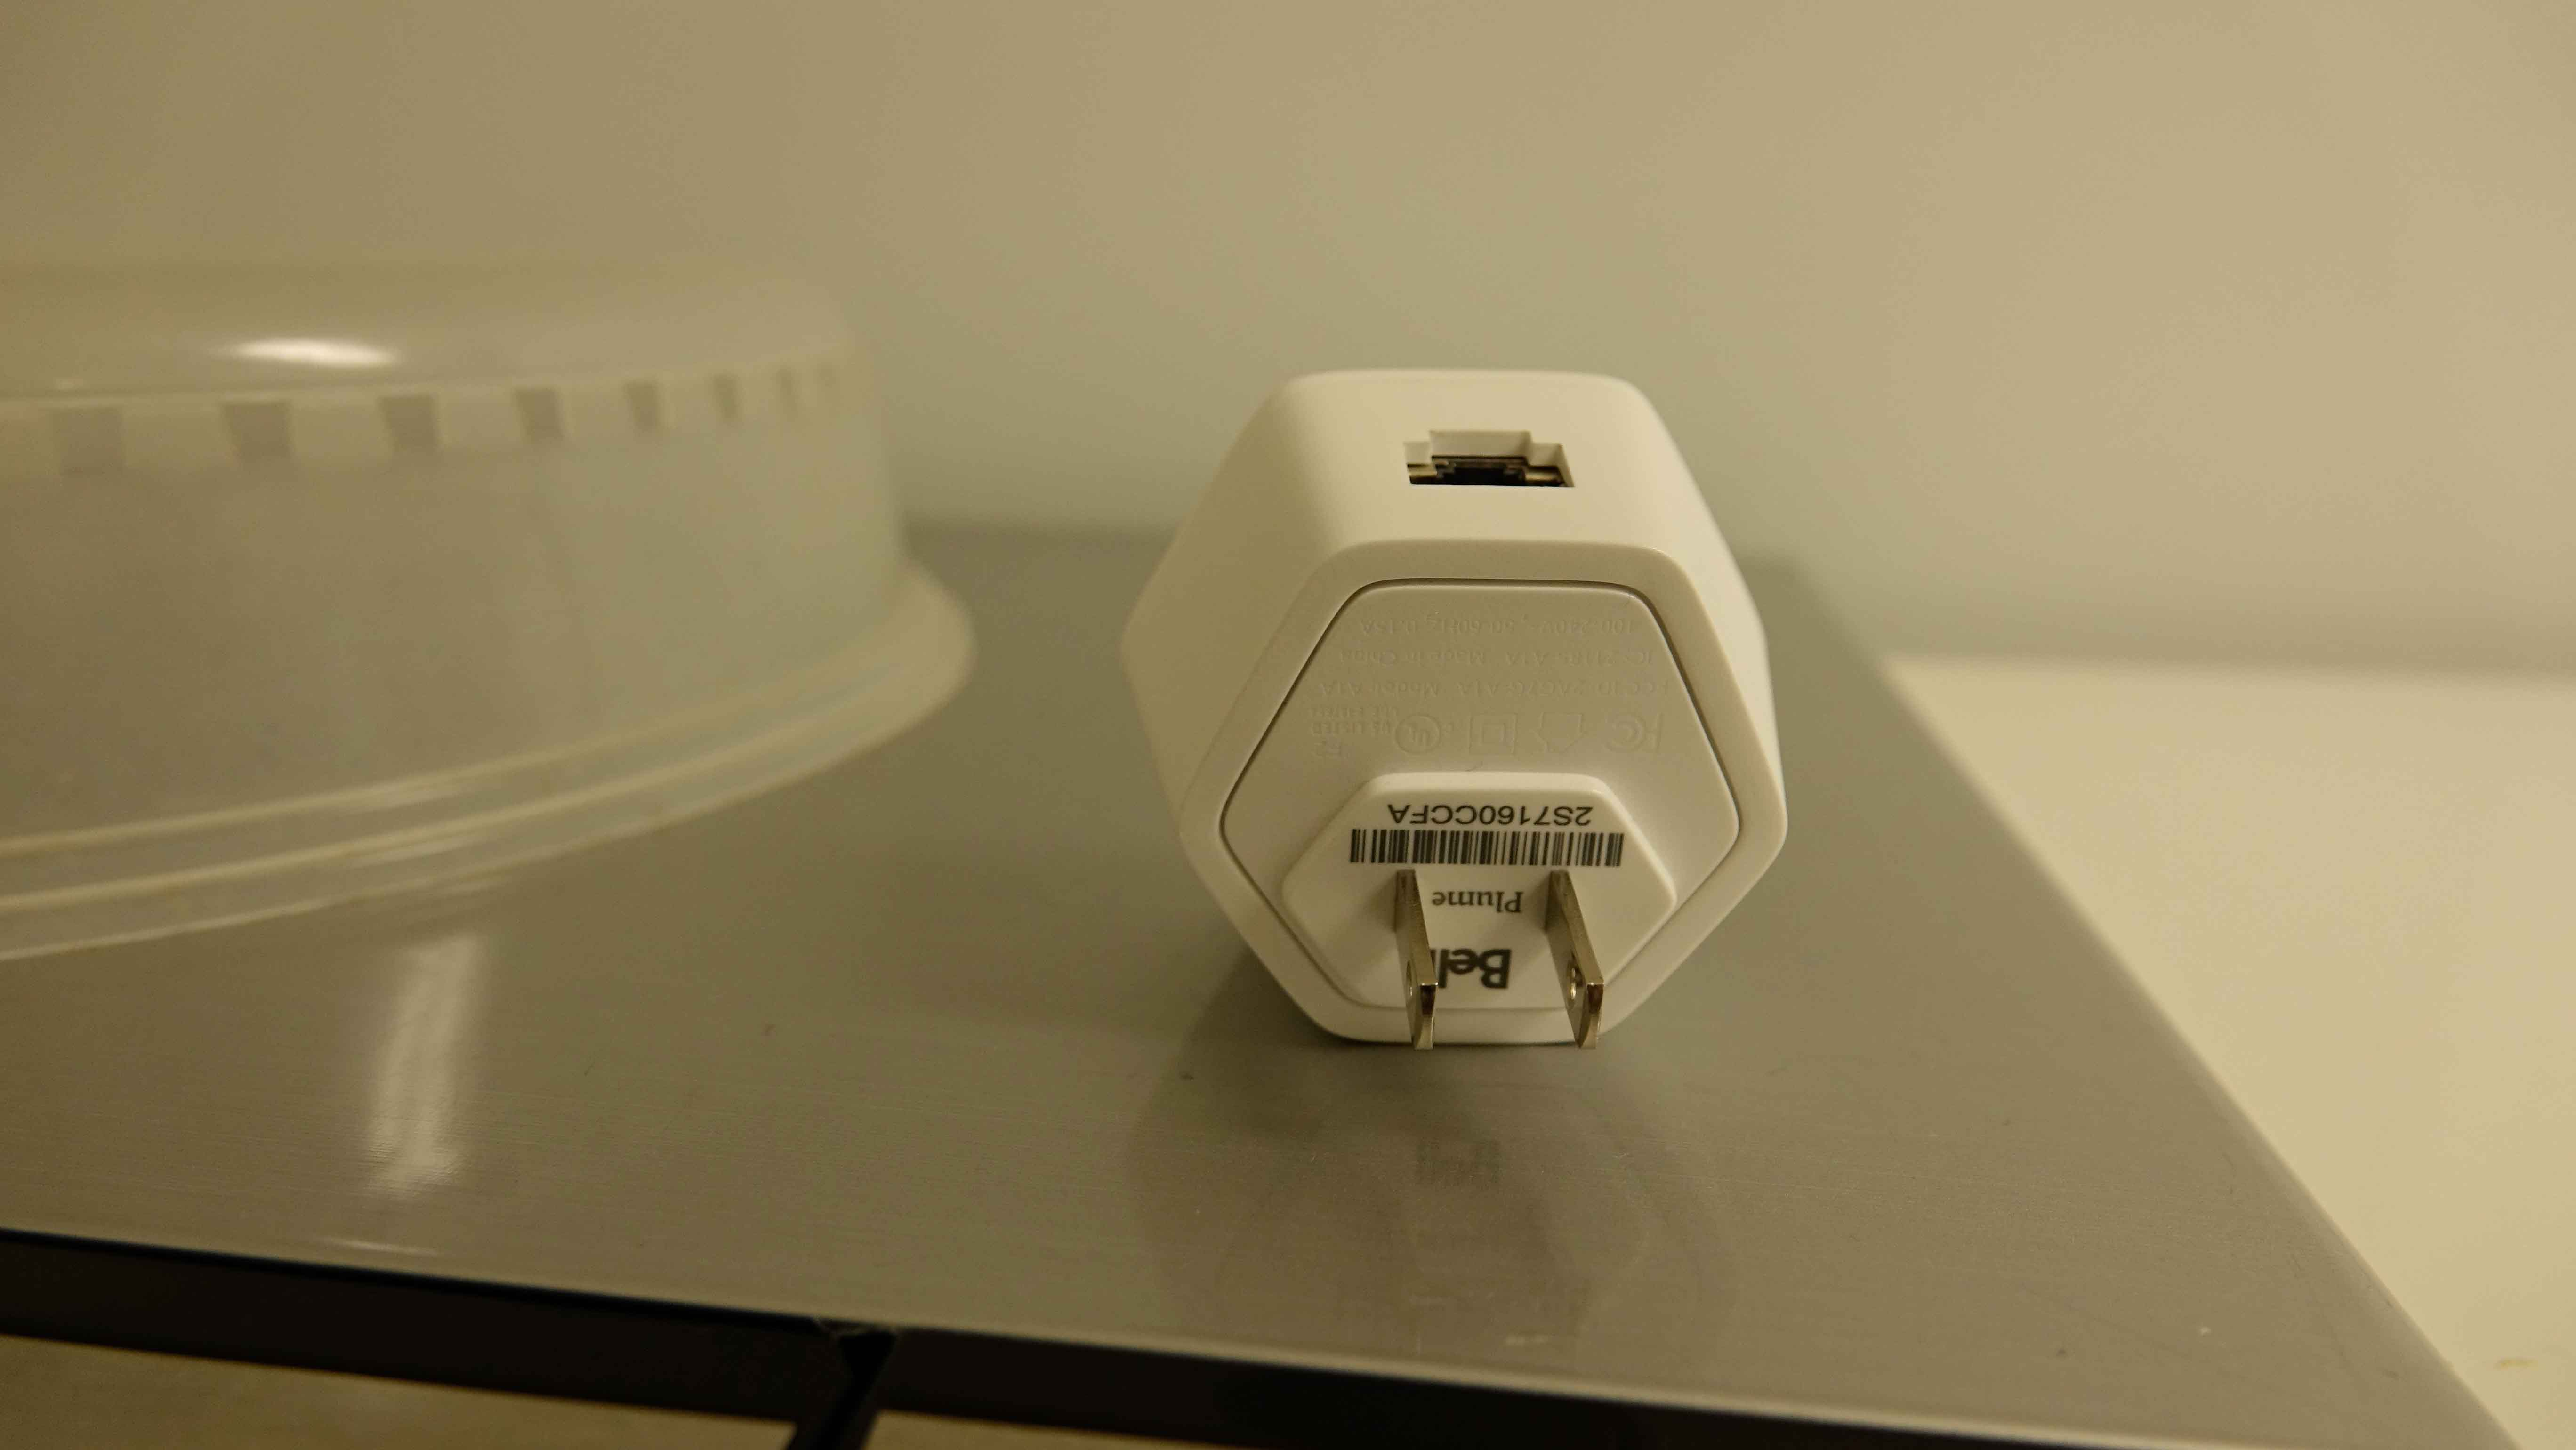pod: (1115, 354, 1808, 1080)
